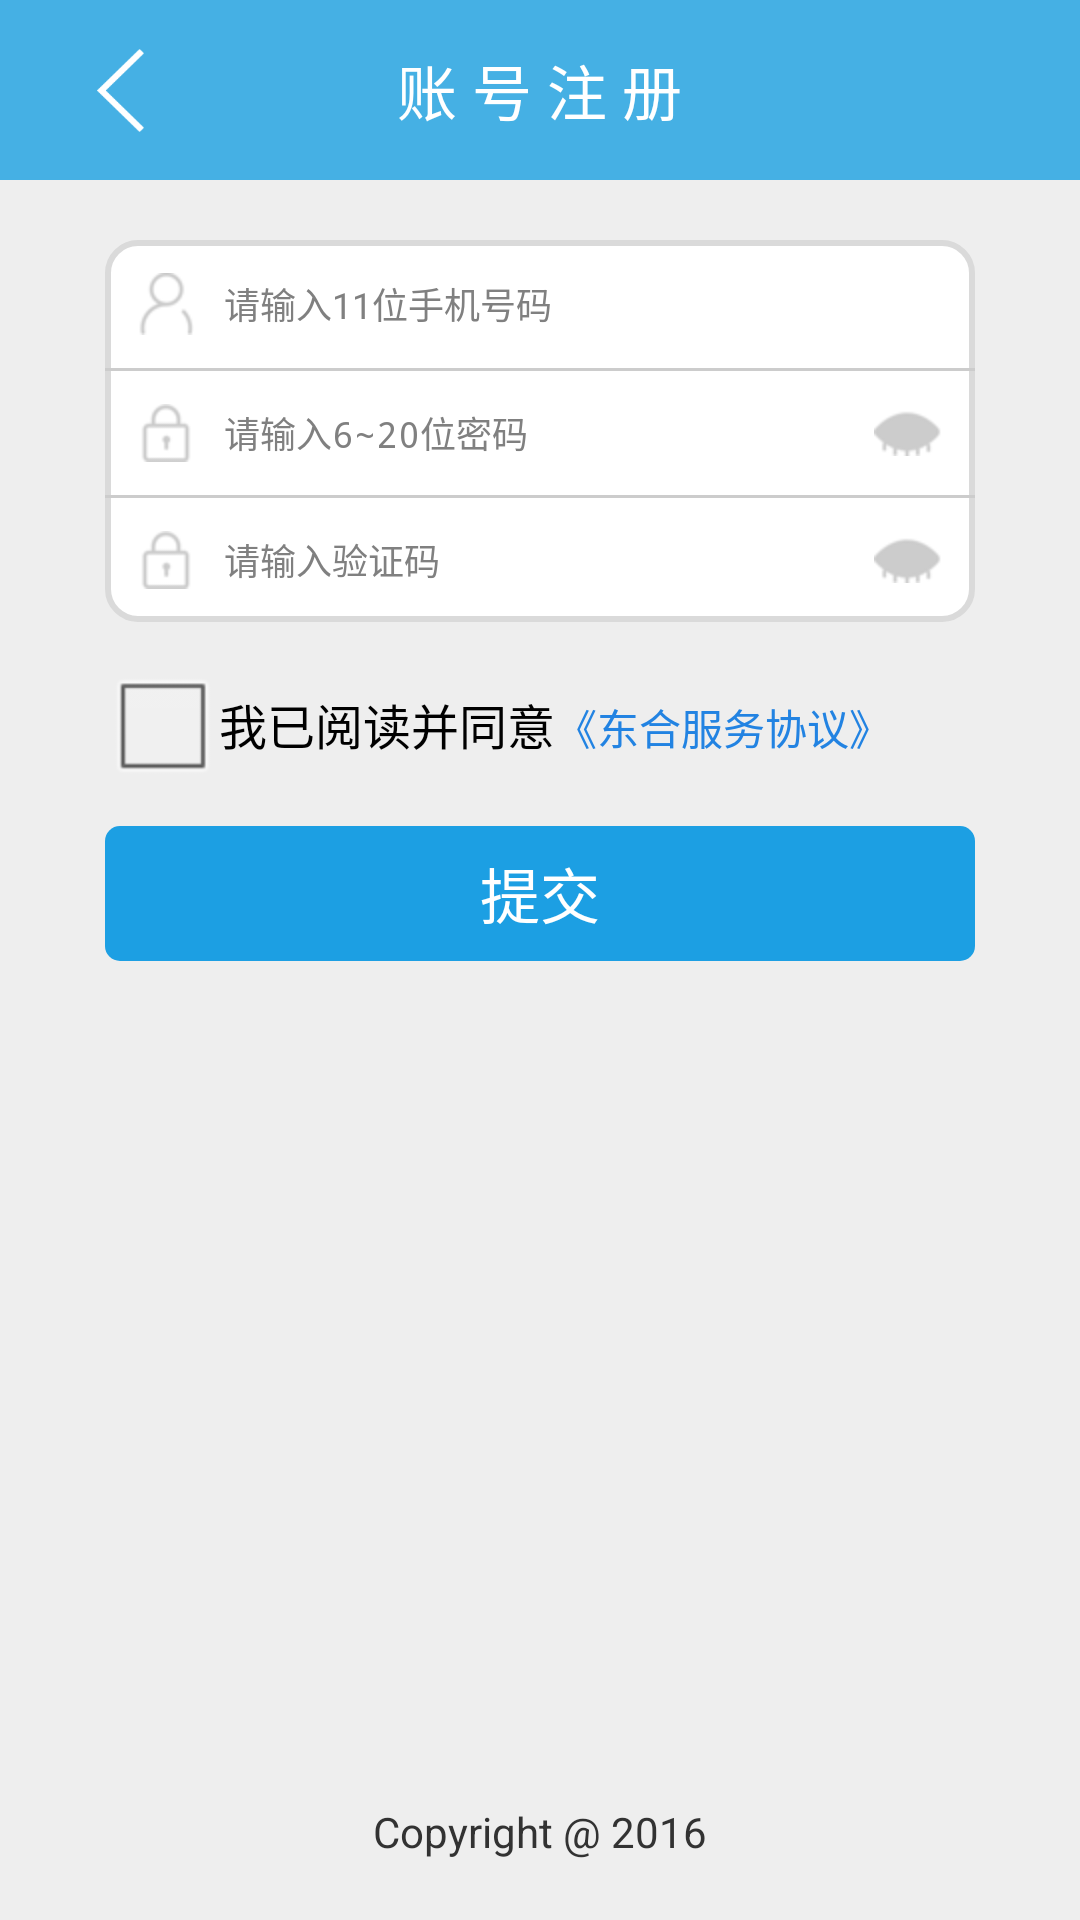

Icons on this 1080px x 1920px Android screen, each with its box as (x1, y1, x2, y2):
back: (97, 49, 144, 132)
